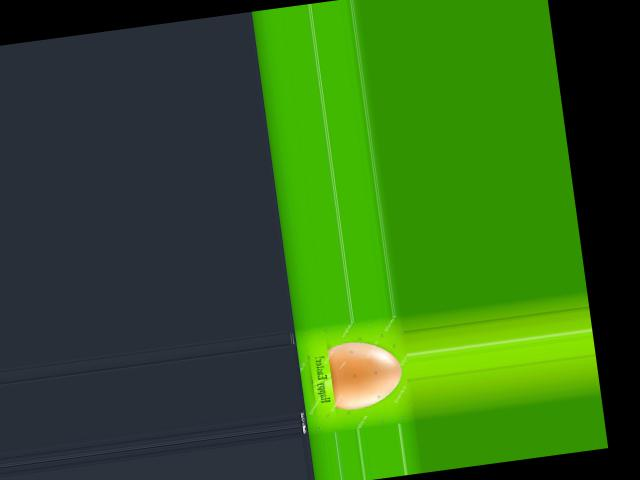egg: (327, 336, 405, 411)
